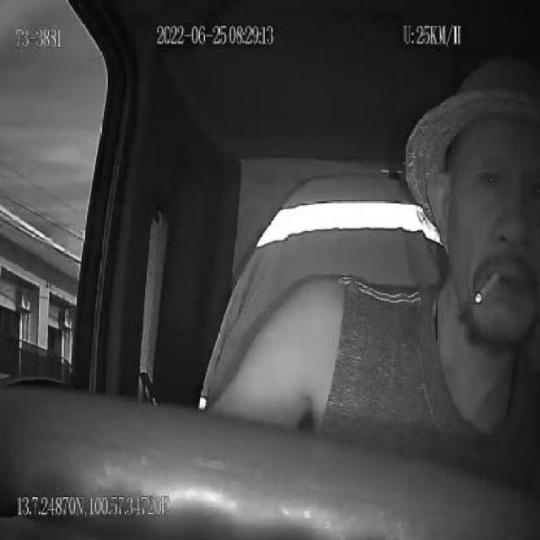smoking: (474, 265, 502, 310)
